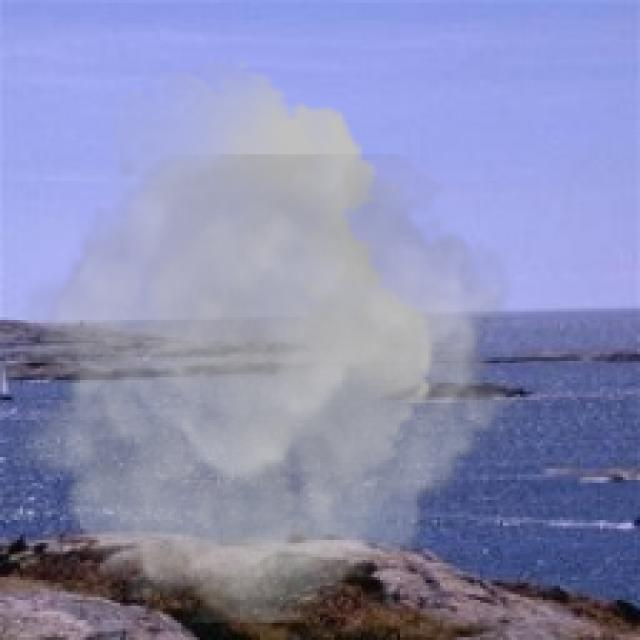smoke: (9, 60, 528, 623)
